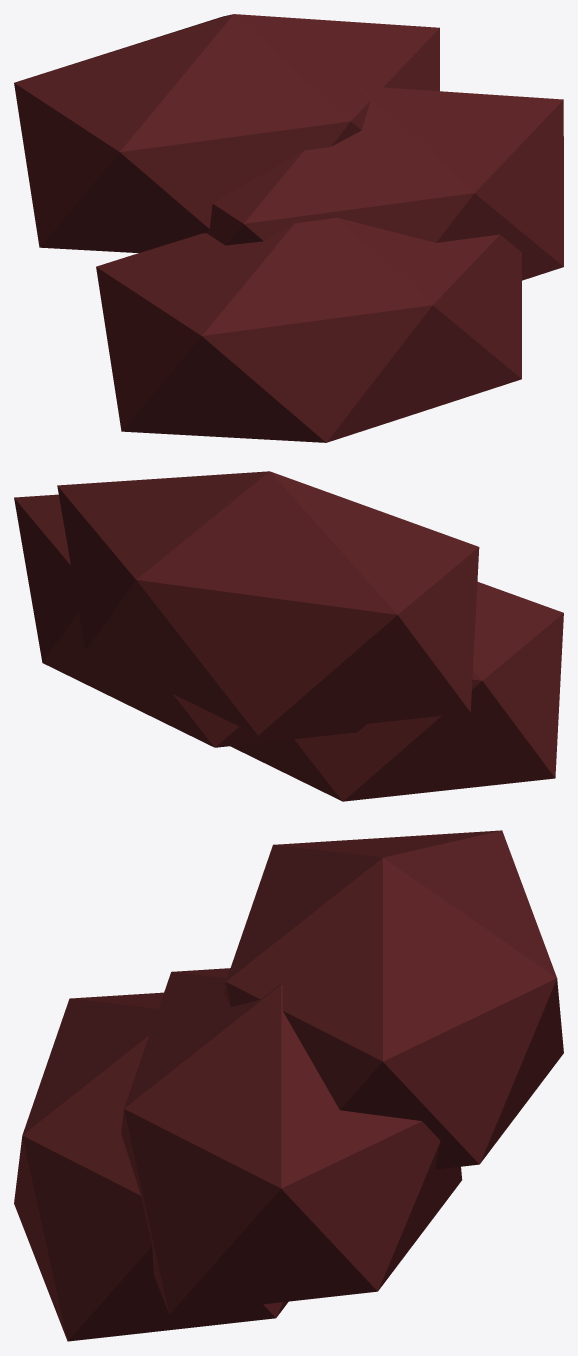
Rendered from w3d_item_dried_berries_m.glb.
3 views of the same model, one above another, from view 1: azimuth 30°, elevation 25°; view 2: azimuth 150°, elevation 25°; view 3: azimuth 270°, elevation 25° (orthographic). The views are drawn at different scales.
Visible parts, largest first — view 1: item_026_dried_berries_m; view 2: item_026_dried_berries_m; view 3: item_026_dried_berries_m.
Part boxes in pixels (x1,y1,x2,y2): item_026_dried_berries_m: [14, 14, 563, 442]; item_026_dried_berries_m: [14, 471, 563, 801]; item_026_dried_berries_m: [14, 830, 563, 1341].
Size of the model in its own units: 0.4083 by 0.2923 by 0.3243.
